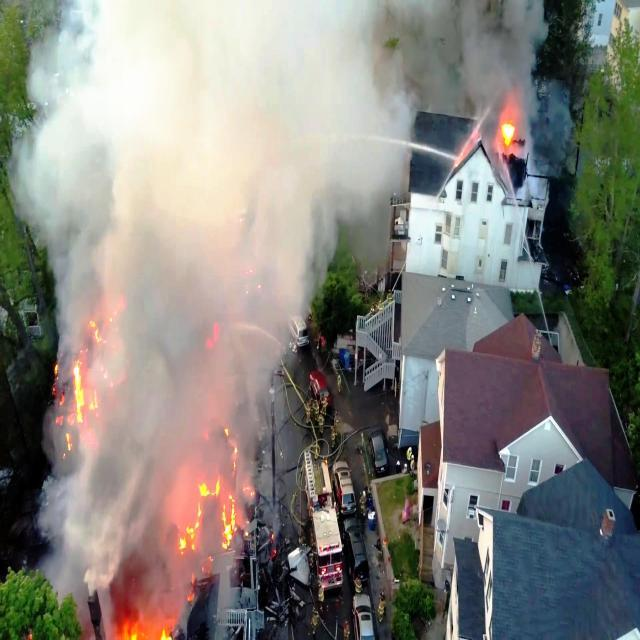Fire: (182, 462, 236, 540), (48, 371, 100, 442)
